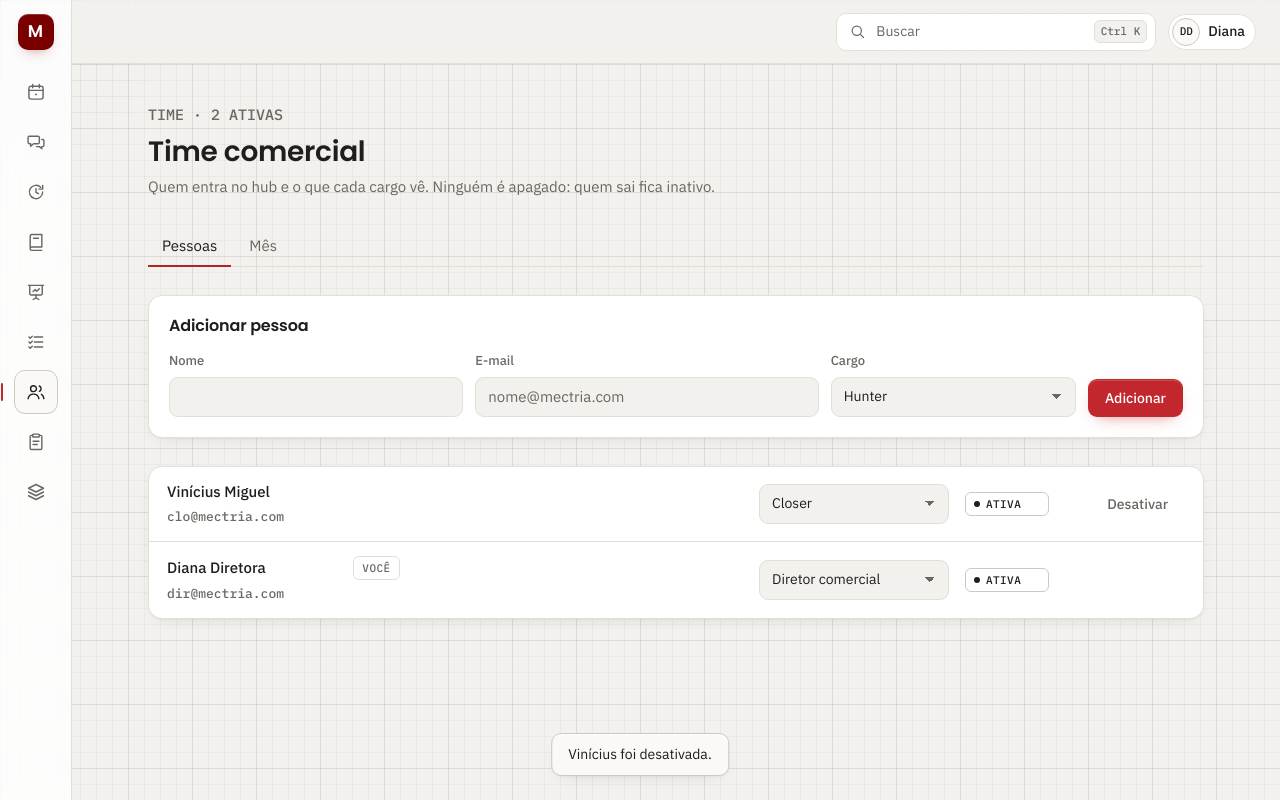
Test: erro ao trocar cargo aparece acima da lista
Select "Closer" in the dropdown named "Cargo de Diana Diretora" at (854, 580), box [759, 560, 949, 600]
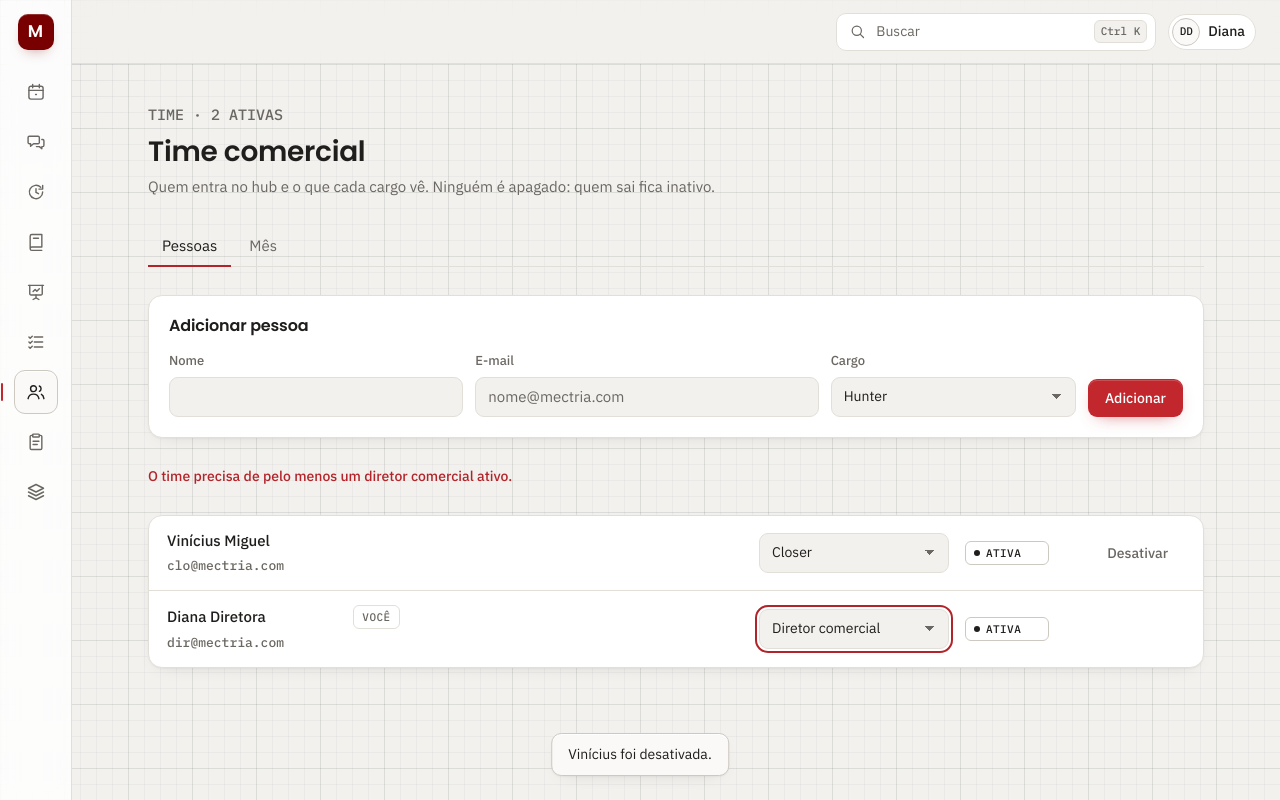
Now the text "O time precisa de pelo menos um diretor comercial ativo." is shown, box [148, 467, 512, 485]
